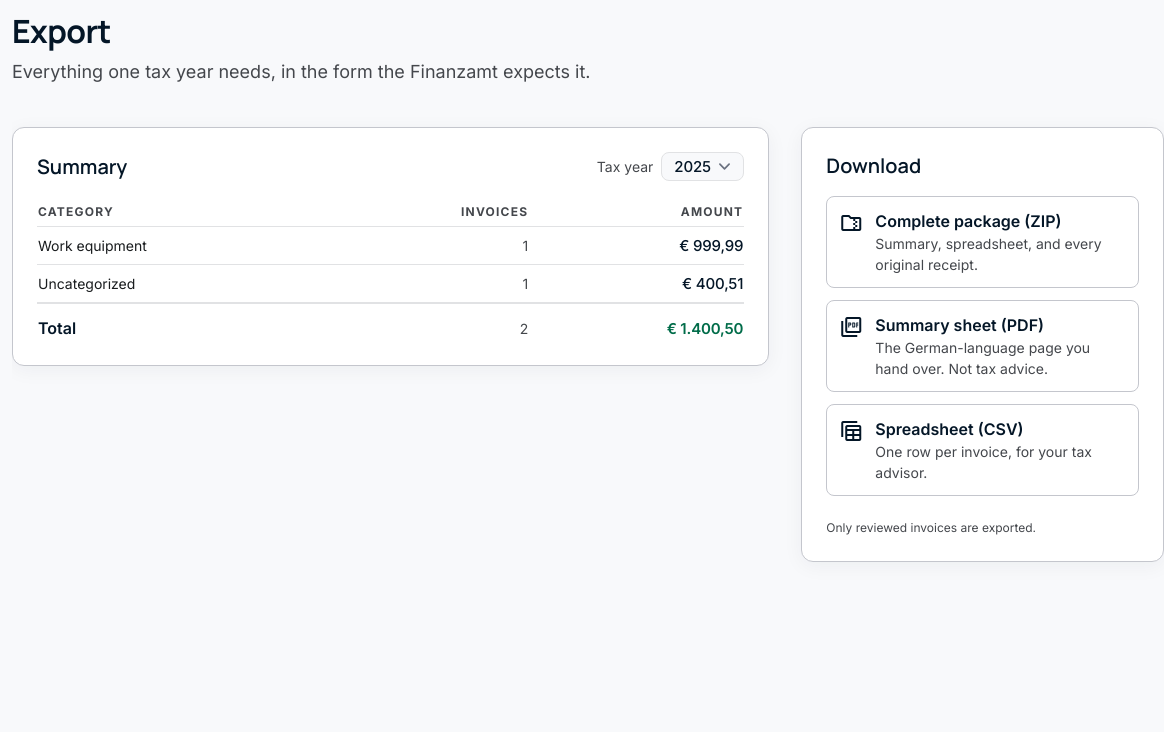
Scenario: Export page › surfaces a failed download instead of silently saving nothing
This screenshot has width=1164, height=732.
Check: the text "€ 1.400,50" is shown, box [529, 303, 744, 341]
Step 1. Click the button that starts with "Summary sheet (PDF)" → (983, 346), box [826, 300, 1139, 392]
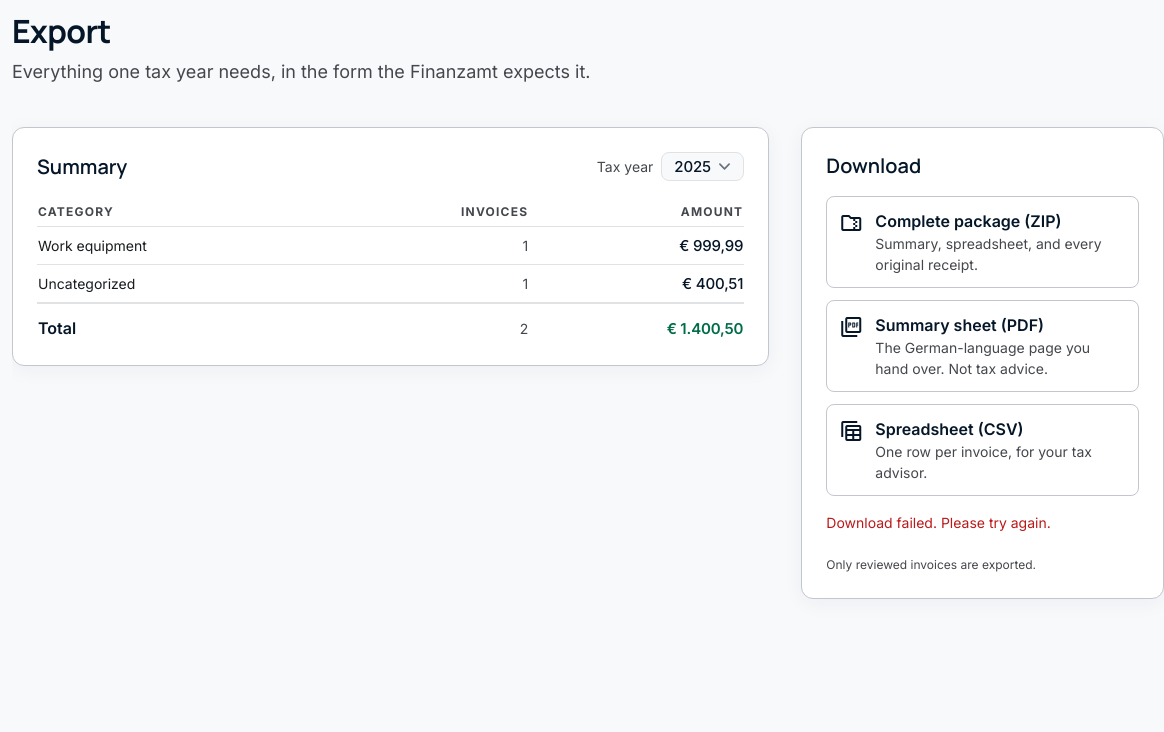
Check: the message reads "Download failed. Please try again.", box [826, 514, 1051, 531]
